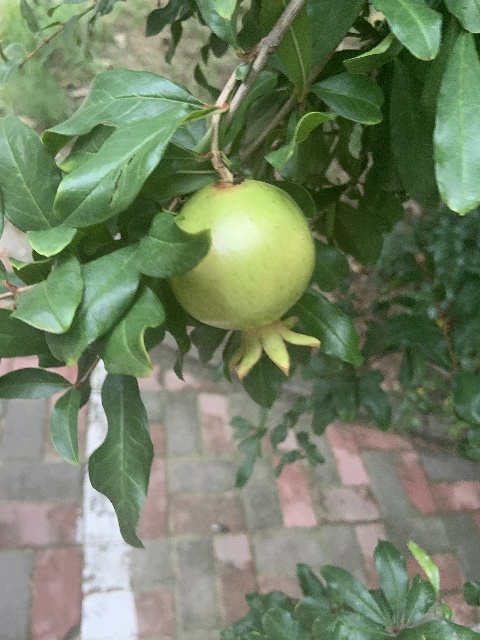mid-growth: (168, 178, 320, 382)
